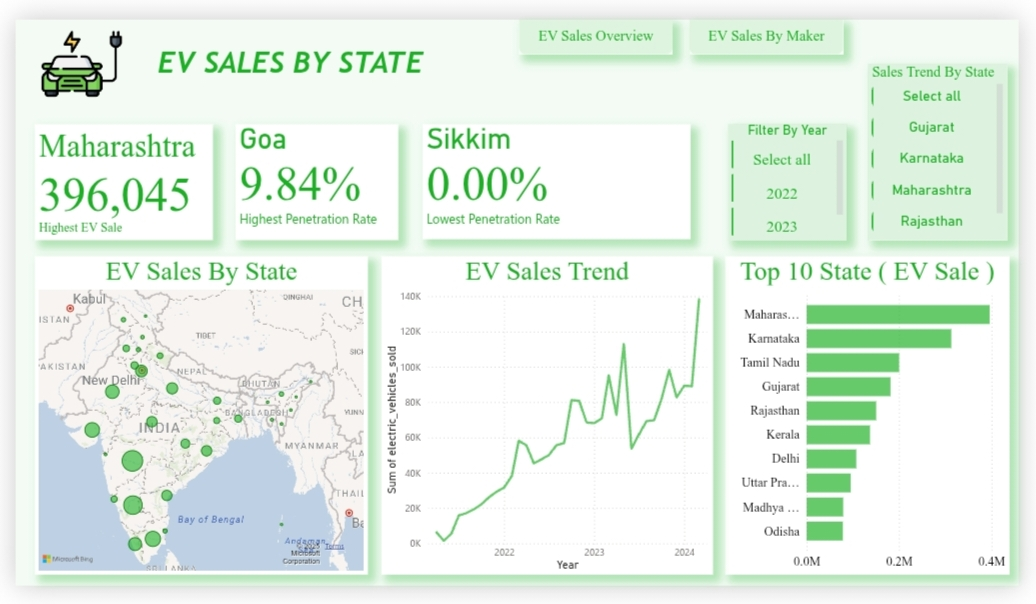

This screenshot's page, from the dashboard's own definition file:
{"tool":"powerbi","page":{"name":"EV Sale By State","canvas":[1280,720],"ordinal":1},"visuals":[{"type":"multiRowCard","fields":{"Values":["electric_vehicle_sales_by_state.state","electric_vehicle_sales_by_state.P_Rate"]},"box":[281.7,133.8,207.8,147.9],"z":0},{"type":"multiRowCard","fields":{"Values":["electric_vehicle_sales_by_state.state","electric_vehicle_sales_by_state.P_Rate"]},"box":[519.5,135,341.8,147],"z":1000},{"type":"multiRowCard","fields":{"Values":["electric_vehicle_sales_by_state.state","Sum(electric_vehicle_sales_by_state.electric_vehicles_sold)"]},"box":[24.6,133.8,227.1,147.9],"z":2000},{"type":"image","box":[0,0,169,112.7],"z":3000},{"type":"textbox","box":[156.7,28.2,385.6,54.6],"z":4000},{"type":"actionButton","box":[640.9,0,196.5,44.4],"z":5000},{"type":"actionButton","box":[861.3,0,196.5,44.4],"z":6000},{"type":"map","title":"EV Sales By State","fields":{"Category":["electric_vehicle_sales_by_state.state"],"Size":["Sum(electric_vehicle_sales_by_state.electric_vehicles_sold)"]},"box":[25.2,300.7,425,406.5],"z":7000},{"type":"barChart","title":"Top 10 State ( EV Sale )","fields":{"Category":["electric_vehicle_sales_by_state.state"],"Y":["Sum(electric_vehicle_sales_by_state.electric_vehicles_sold)"]},"box":[905.4,300.7,362.8,406.5],"z":8000},{"type":"lineChart","title":"EV Sales Trend","fields":{"Y":["Sum(electric_vehicle_sales_by_state.electric_vehicles_sold)"],"Category":["electric_vehicle_sales_by_state.date.Variation.Date Hierarchy.Year","electric_vehicle_sales_by_state.date.Variation.Date Hierarchy.Quarter","electric_vehicle_sales_by_state.date.Variation.Date Hierarchy.Month","electric_vehicle_sales_by_state.date.Variation.Date Hierarchy.Day"]},"box":[467,300.7,423.3,406.5],"z":9000},{"type":"advancedSlicerVisual","title":"Sales Trend By State","fields":{"Values":["electric_vehicle_sales_by_state.state"]},"box":[1086.9,56.4,177.7,225.6],"z":10000},{"type":"advancedSlicerVisual","title":"Filter By Year","fields":{"Values":["electric_vehicle_sales_by_state.Fiscal_year.Variation.Date Hierarchy.Year"]},"box":[909.2,133.3,152.1,148.7],"z":11000}]}

Visuals, with their boxes on the page's 1280x720 design canvas (x1, y1, x2, y2). These are canvas units, not pixel positions in the 1036x604 screenshot, which may show the page scaled, cropped or inside an application window:
multiRowCard - electric_vehicle_sales_by_state.state x electric_vehicle_sales_by_state.P_Rate: {"left": 282, "top": 134, "right": 490, "bottom": 282}
multiRowCard - electric_vehicle_sales_by_state.state x electric_vehicle_sales_by_state.P_Rate: {"left": 520, "top": 135, "right": 861, "bottom": 282}
multiRowCard - electric_vehicle_sales_by_state.state x Sum(electric_vehicle_sales_by_state.electric_vehicles_sold): {"left": 25, "top": 134, "right": 252, "bottom": 282}
image: {"left": 0, "top": 0, "right": 169, "bottom": 113}
textbox: {"left": 157, "top": 28, "right": 542, "bottom": 83}
actionButton: {"left": 641, "top": 0, "right": 837, "bottom": 44}
actionButton: {"left": 861, "top": 0, "right": 1058, "bottom": 44}
"EV Sales By State" map: {"left": 25, "top": 301, "right": 450, "bottom": 707}
"Top 10 State ( EV Sale )" barChart: {"left": 905, "top": 301, "right": 1268, "bottom": 707}
"EV Sales Trend" lineChart: {"left": 467, "top": 301, "right": 890, "bottom": 707}
"Sales Trend By State" advancedSlicerVisual: {"left": 1087, "top": 56, "right": 1265, "bottom": 282}
"Filter By Year" advancedSlicerVisual: {"left": 909, "top": 133, "right": 1061, "bottom": 282}
